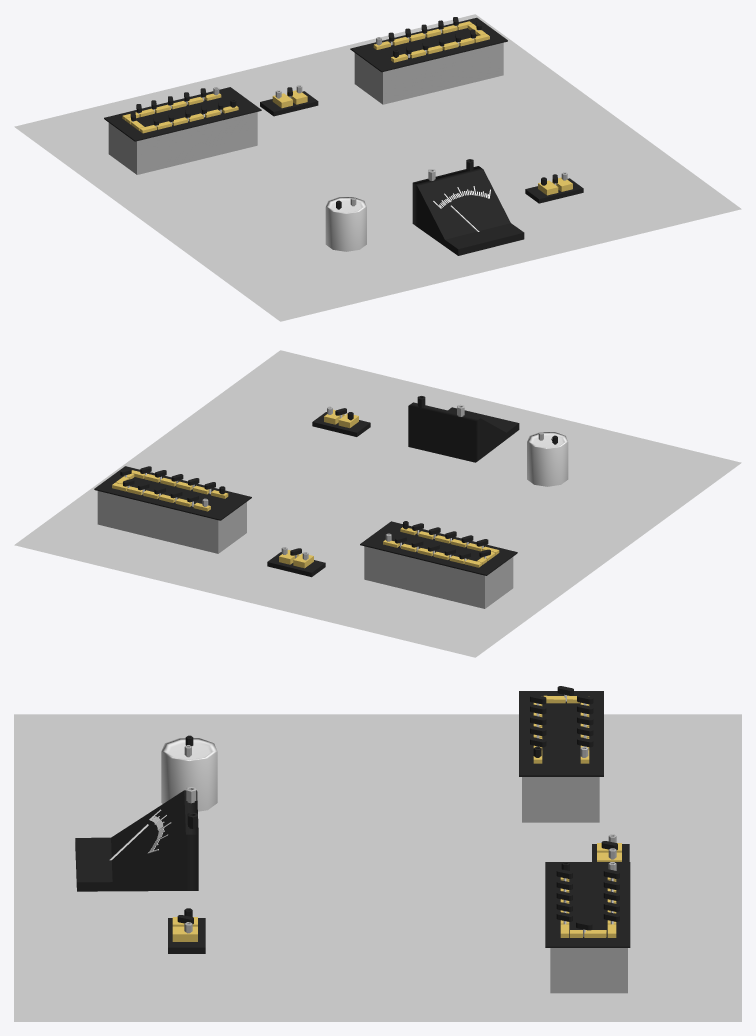
File: model Determine the resistance.fbx
3 renders of one model, top to bottom at view 1: azimuth 30°, elevation 25°; view 2: azimuth 150°, elevation 25°; view 3: azimuth 270°, elevation 25°, orthographic. The views are drawn at different scales.
Visible parts, largest first — view 1: Plane, polySurface503.001, polySurface461.004, polySurface503.002, polySurface461.001, polySurface503.003, polySurface461.003; view 2: Plane, polySurface461.004, polySurface503.001, polySurface503.002, polySurface461.001, polySurface503.003, polySurface461.003; view 3: Plane, polySurface461.004, polySurface503.001, polySurface503.002, polySurface461.001, polySurface461.003, polySurface503.003.
Part boxes in pixels (box(x1,y1,x2,y2)): Plane: box(14, 14, 741, 321); polySurface503.001: box(104, 87, 261, 174); polySurface461.004: box(350, 17, 507, 104); polySurface503.002: box(412, 159, 524, 255); polySurface461.001: box(325, 197, 366, 251); polySurface503.003: box(260, 85, 318, 116); polySurface461.003: box(525, 172, 583, 203); Plane: box(14, 350, 741, 657); polySurface461.004: box(94, 466, 251, 553); polySurface503.001: box(360, 521, 517, 608); polySurface503.002: box(408, 396, 519, 462); polySurface461.001: box(527, 432, 568, 486); polySurface503.003: box(267, 547, 325, 577); polySurface461.003: box(312, 406, 370, 436); Plane: box(14, 714, 741, 1021); polySurface461.004: box(545, 862, 630, 993); polySurface503.001: box(519, 686, 603, 822); polySurface503.002: box(75, 786, 198, 891); polySurface461.001: box(161, 735, 217, 811); polySurface461.003: box(168, 908, 205, 953); polySurface503.003: box(592, 834, 629, 861).
Bounding box in the file's own units: 503 × 53.55 × 503.
